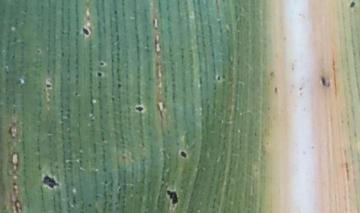tarspot: (40, 174, 60, 189), (165, 188, 178, 205), (319, 74, 332, 88), (70, 193, 79, 208), (81, 25, 91, 37), (178, 149, 188, 160), (133, 104, 145, 113), (94, 69, 104, 79), (348, 1, 357, 10), (34, 46, 43, 55), (44, 82, 53, 90), (97, 60, 106, 68), (115, 81, 124, 89), (59, 49, 66, 59), (273, 85, 279, 96), (72, 90, 80, 98), (112, 8, 120, 16), (215, 73, 221, 83), (102, 177, 109, 185), (86, 201, 93, 209), (109, 94, 115, 102)
